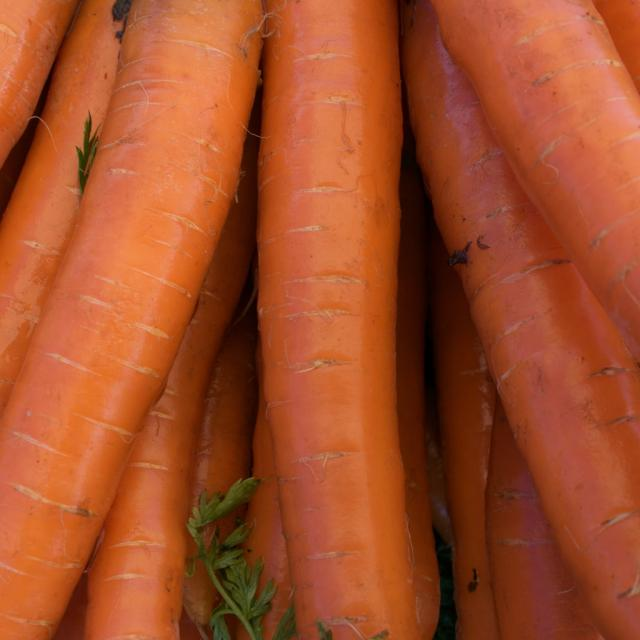Carrot: (2, 2, 267, 640), (266, 0, 398, 640)
